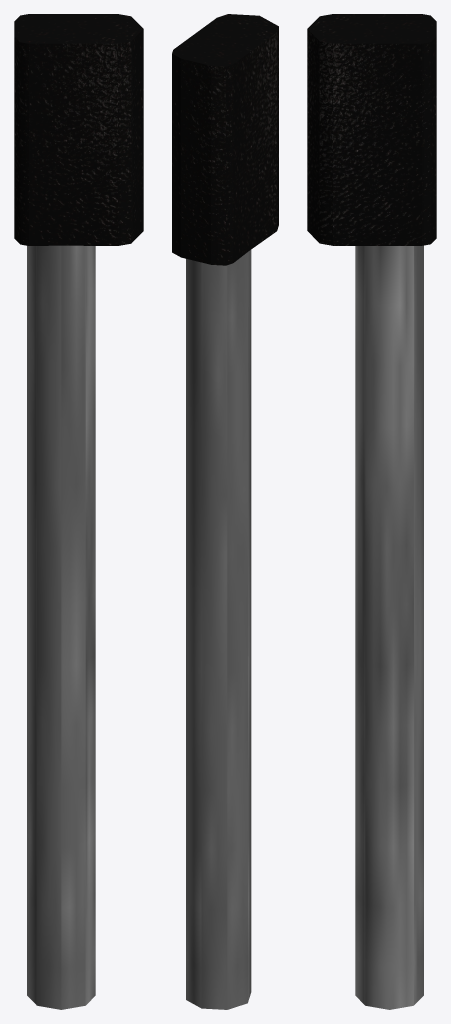
The model's file is joystick.fbx.
The picture shows the model from 3 angles, left to right: view 1: azimuth 90°, elevation 25°; view 2: azimuth 150°, elevation 25°; view 3: azimuth 270°, elevation 25°; orthographic projection.
Parts seen in each view (by area): view 1: Group1; view 2: Group1; view 3: Group1.
Part boxes in pixels (box(x1,y1,x2,y2)): Group1: box(14, 14, 143, 1009); Group1: box(172, 14, 278, 1009); Group1: box(307, 14, 436, 1009).
Size of the model in its own units: 14.65 by 222 by 26.86.
